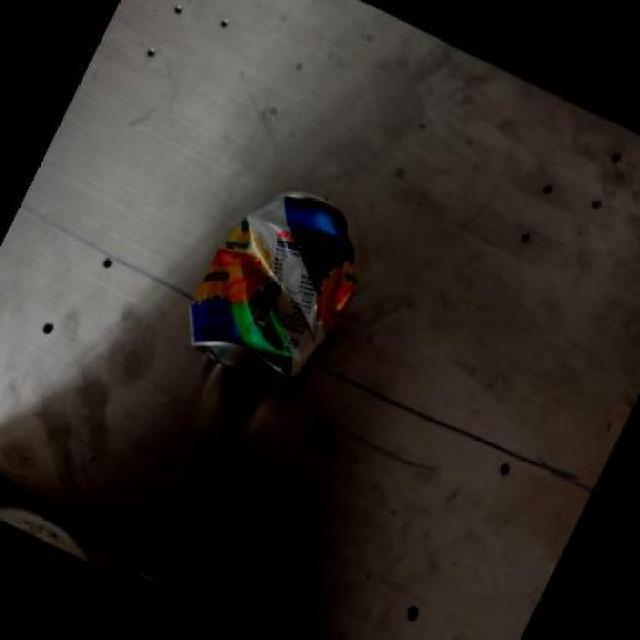metal-can: (181, 183, 364, 397)
